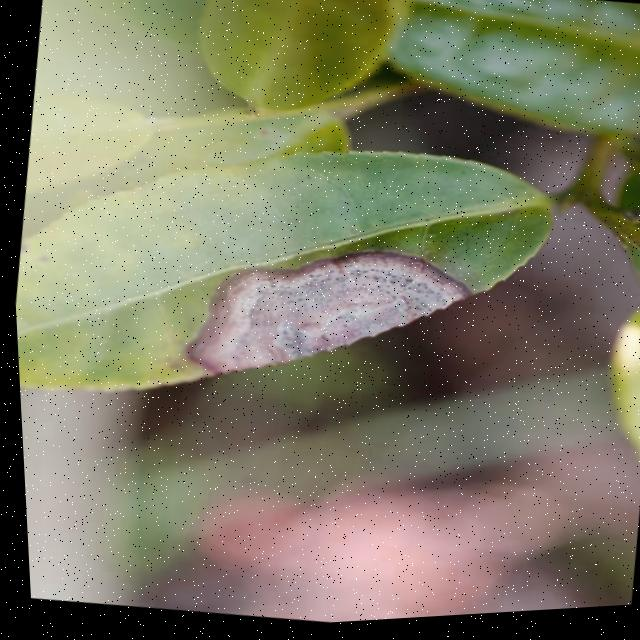Tea cloud leaf blight: (178, 216, 485, 446)
